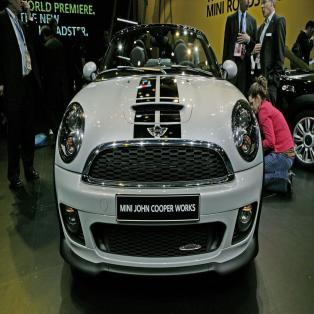Auto: (54, 23, 263, 278)
